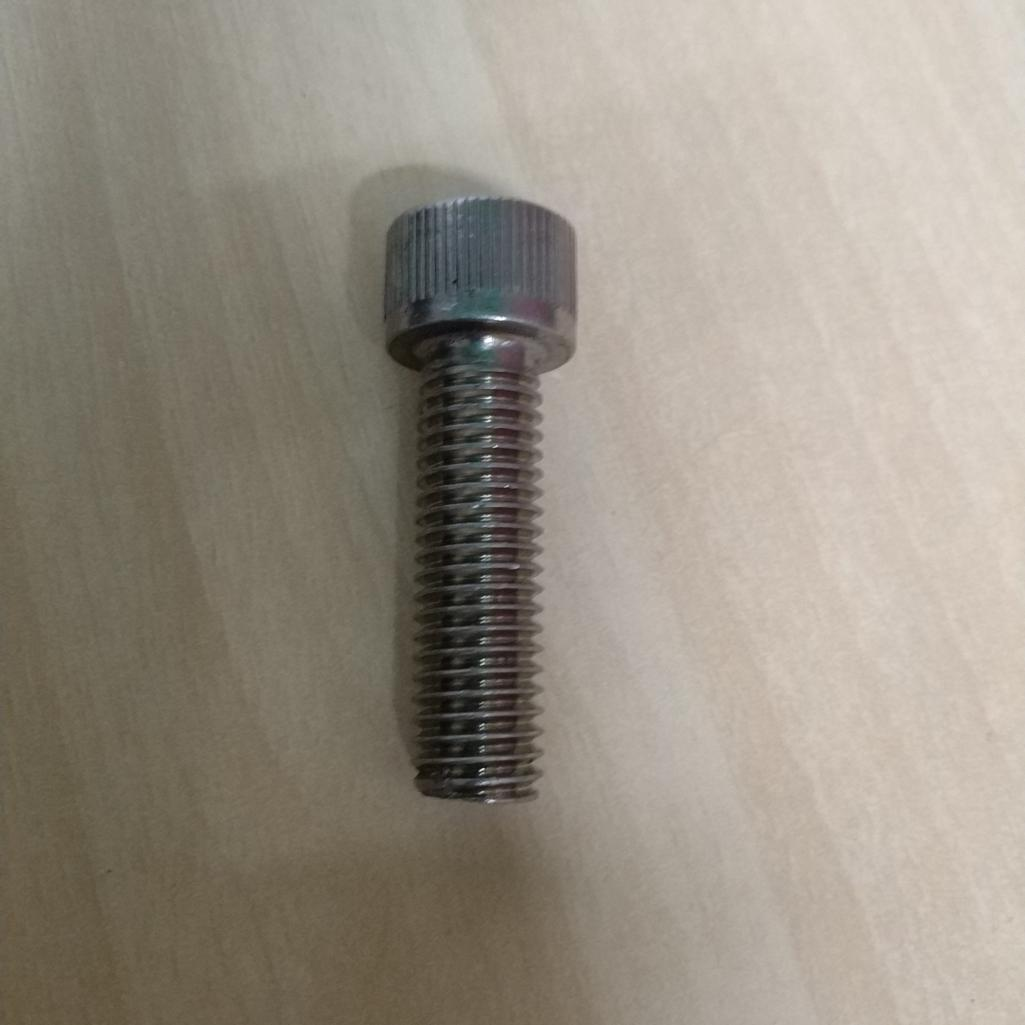screwtype1silver: (340, 183, 593, 815)
